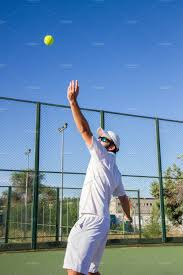tennis_ball: (43, 34, 54, 46)
